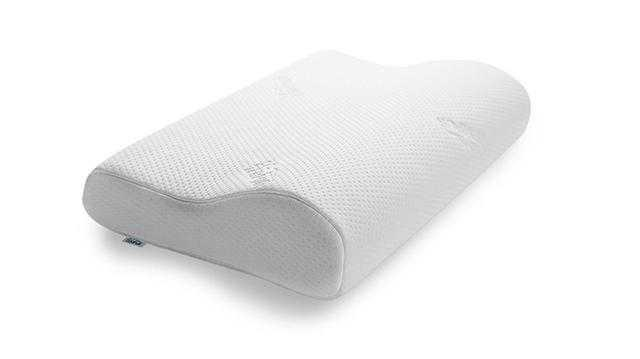pillow: (81, 47, 531, 301)
